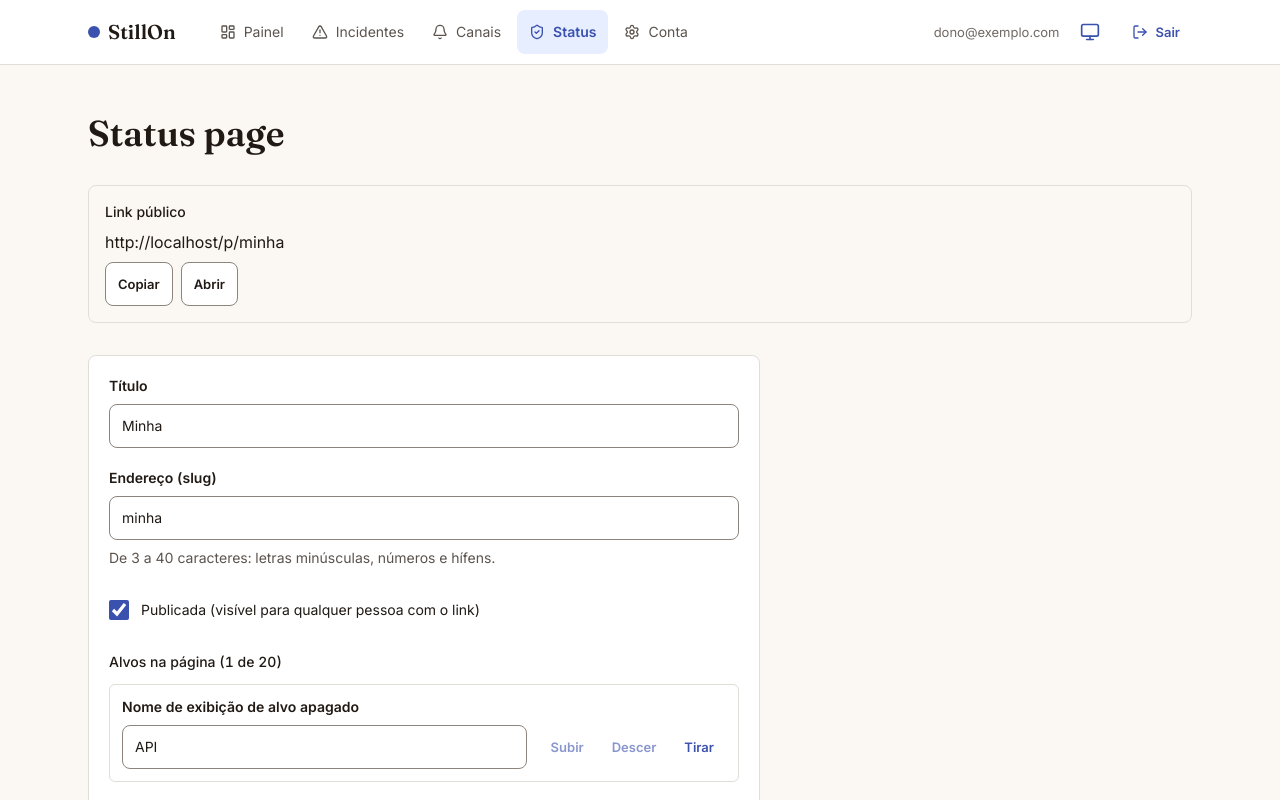
Test case: copiar: ausência pública da capacidade de clipboard › sem clipboard, avisa uma vez e conserva o rótulo Copiar
Click the button "Copiar": {"x": 139, "y": 284} [105, 262, 173, 306]
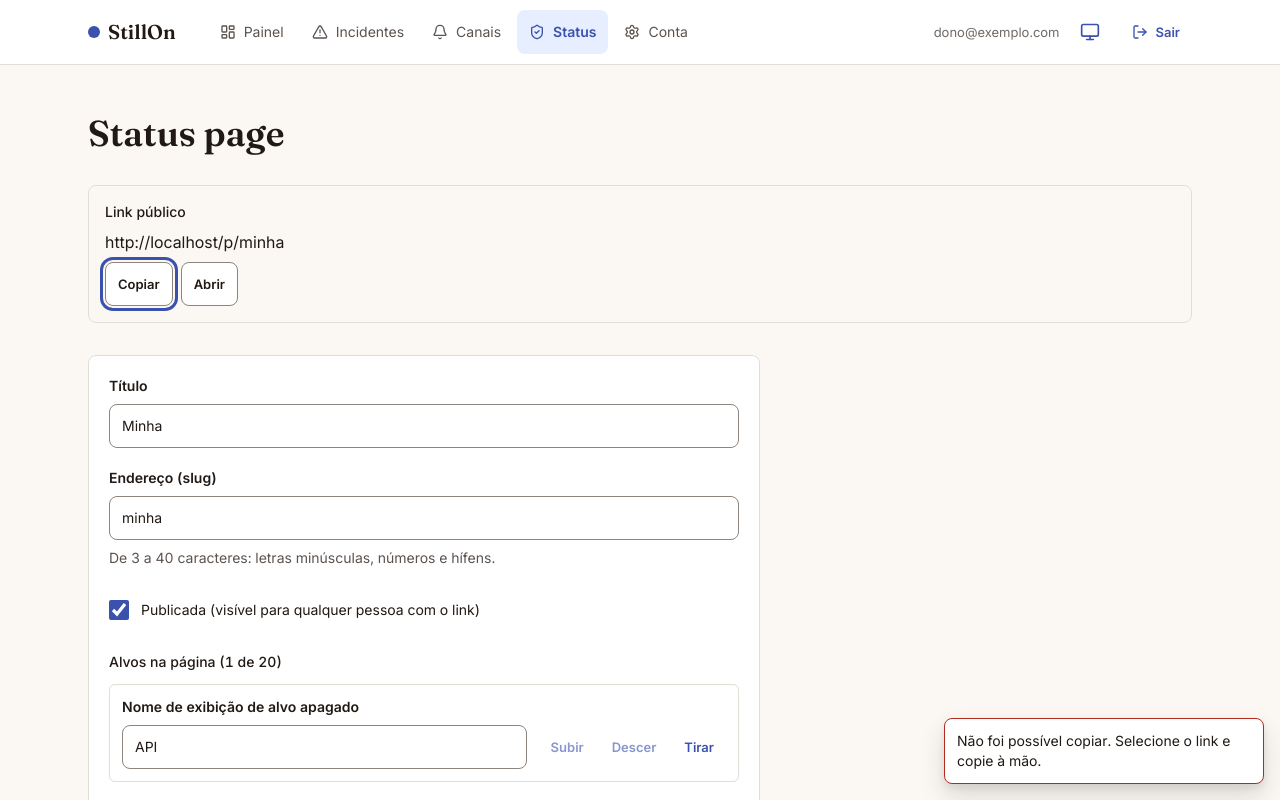
Result: the text "Não foi possível copiar. Selecione o link e copie à mão." is shown once at [957, 731, 1251, 771]
